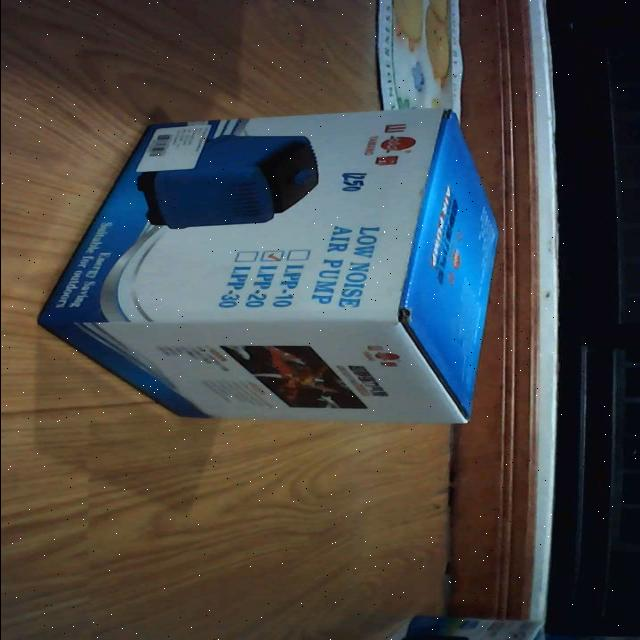YAMANO_LPP_20: (30, 103, 522, 439)
